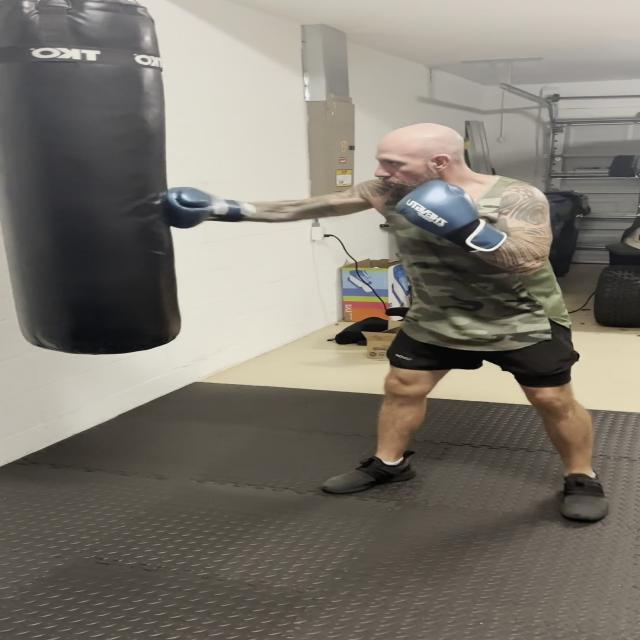bag: (1, 4, 158, 368)
jab: (144, 107, 560, 291)
